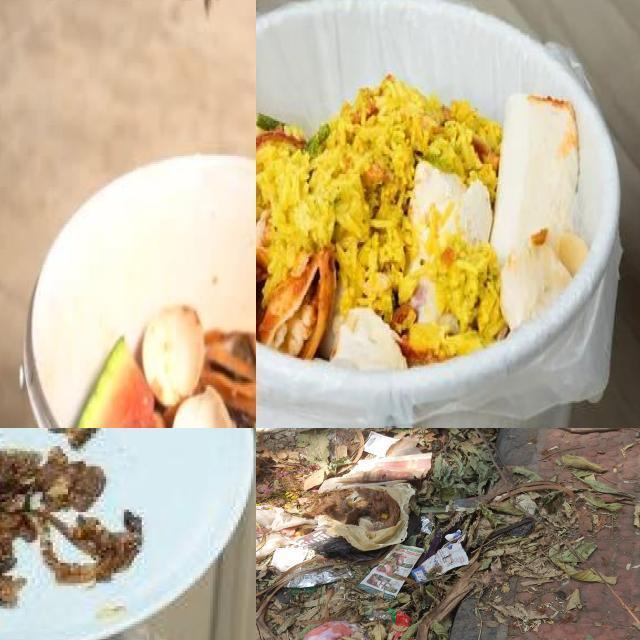Garbage: (256, 83, 599, 380), (256, 428, 617, 640), (68, 297, 256, 428), (0, 446, 142, 608)
Plastic_Bag: (295, 483, 434, 561), (303, 621, 364, 640), (364, 431, 398, 458), (367, 610, 391, 621)
Plastic_Straw: (361, 601, 376, 604), (335, 597, 346, 600), (348, 599, 355, 601)
Plastic_wraper: (285, 568, 352, 588), (391, 610, 412, 627), (393, 631, 403, 640), (389, 609, 397, 614), (391, 628, 395, 632)
